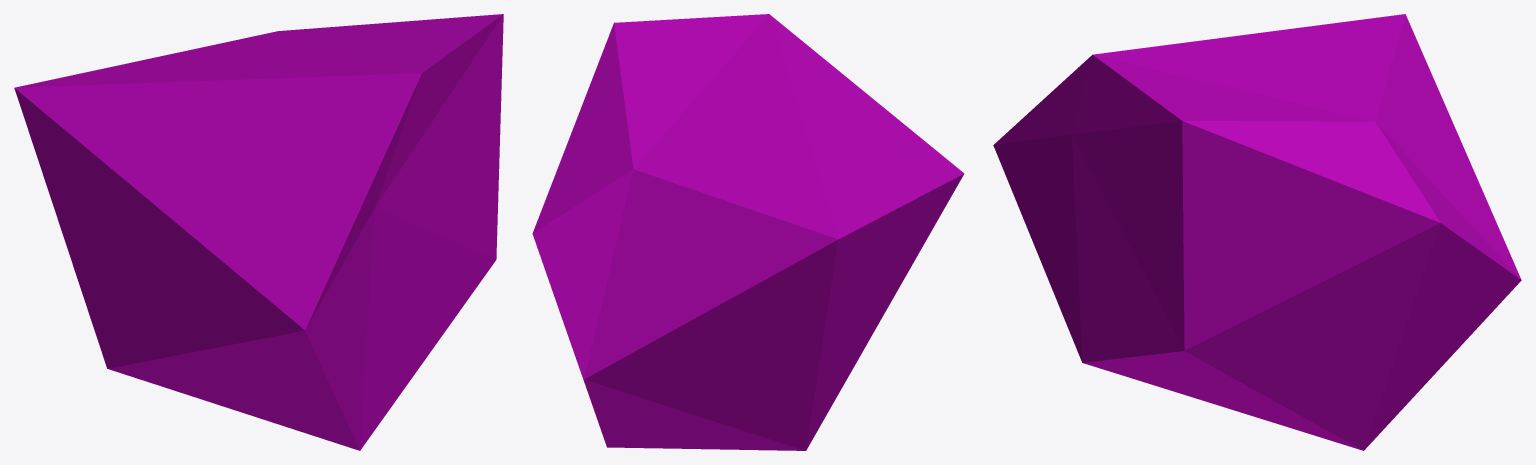
3 views of the same model, side by side, from view 1: azimuth 30°, elevation 25°; view 2: azimuth 150°, elevation 25°; view 3: azimuth 270°, elevation 25° (orthographic). The views are drawn at different scales.
Visible parts, largest first — view 1: pasted__pasted__pSolid8 group25 group24; view 2: pasted__pasted__pSolid8 group25 group24; view 3: pasted__pasted__pSolid8 group25 group24.
Boxes of the visible parts, box(x1,y1,x2,y2) form: pasted__pasted__pSolid8 group25 group24: box(14, 14, 503, 450); pasted__pasted__pSolid8 group25 group24: box(532, 14, 964, 450); pasted__pasted__pSolid8 group25 group24: box(993, 14, 1521, 450).
Size of the model in its own units: 0.6477 by 0.6608 by 0.8388.
Materials: 1 (1 with a texture image).
